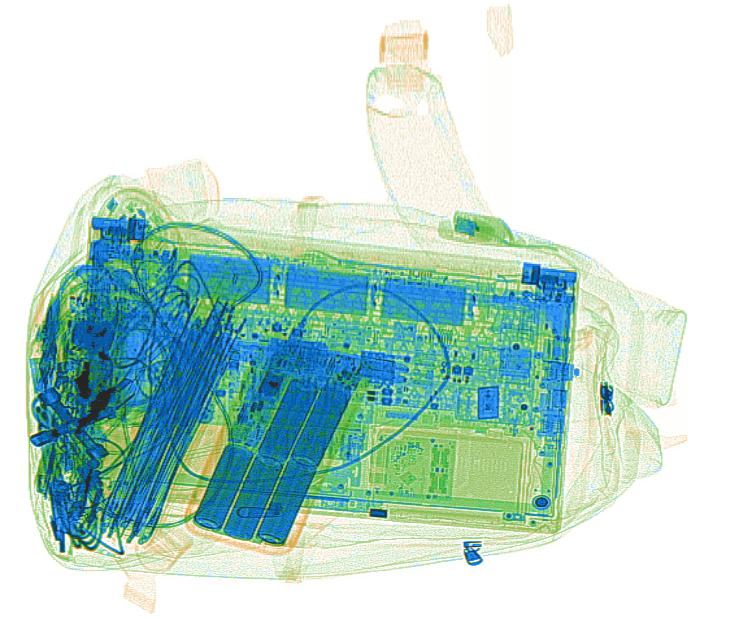battery: (181, 336, 375, 554)
